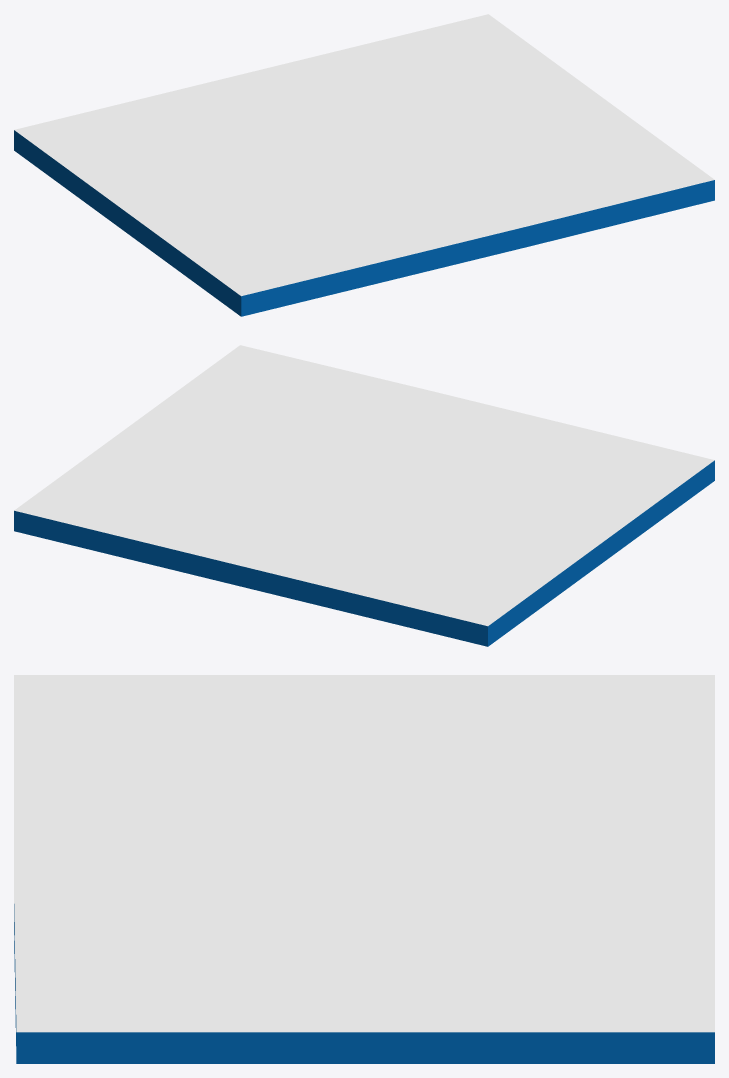
Rendered from BasementEntranceRoof.fbx.
3 views of the same model, one above another, from view 1: azimuth 30°, elevation 25°; view 2: azimuth 150°, elevation 25°; view 3: azimuth 270°, elevation 25° (orthographic). The views are drawn at different scales.
Visible parts, largest first — view 1: BasementEntranceRoof; view 2: BasementEntranceRoof; view 3: BasementEntranceRoof.
Boxes of the visible parts, box(x1,y1,x2,y2) form: BasementEntranceRoof: box(14, 14, 714, 316); BasementEntranceRoof: box(14, 345, 714, 646); BasementEntranceRoof: box(14, 675, 714, 1063).
Bounding box in the file's own units: 475 × 19.69 × 394.
